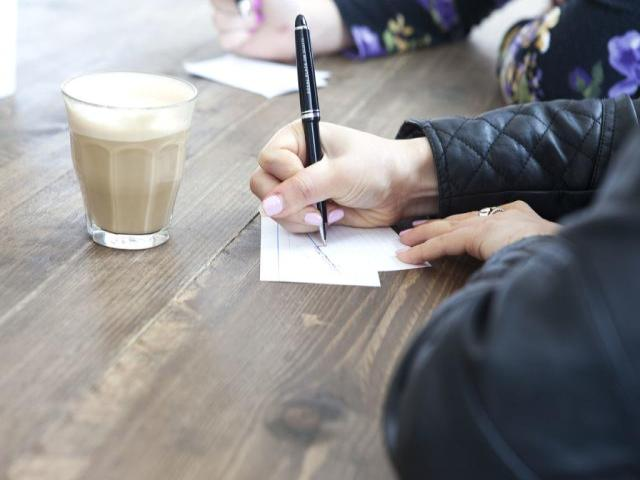PEN: (266, 13, 360, 252)
